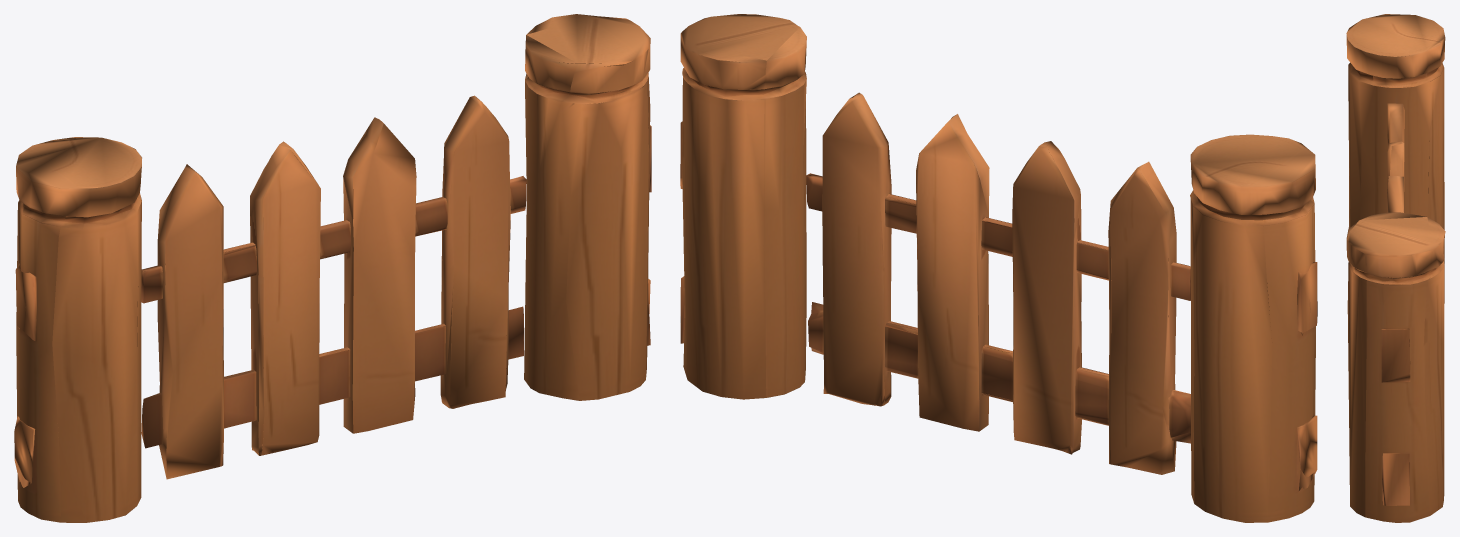
File: fence_low_2.glb
The picture shows the model from 3 angles, left to right: view 1: azimuth 30°, elevation 25°; view 2: azimuth 150°, elevation 25°; view 3: azimuth 270°, elevation 25°; orthographic projection. The views are drawn at different scales.
Parts seen in each view (by area): view 1: Mesh0; view 2: Mesh0; view 3: Mesh0.
Part boxes in pixels (<box>): Mesh0: <box>14,14,651,522</box>; Mesh0: <box>680,14,1317,522</box>; Mesh0: <box>1346,14,1445,522</box>.
Size of the model in its own units: 0.9501 by 0.4959 by 0.1651.
Materials: 1 (1 with a texture image).
